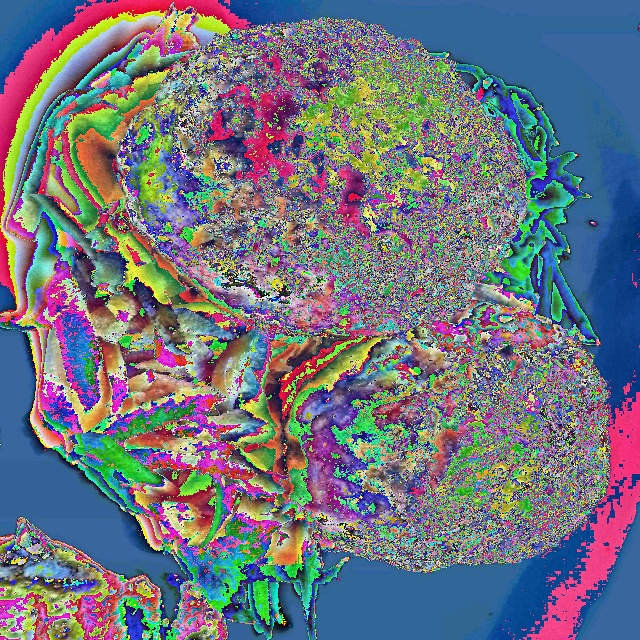background: (0, 2, 612, 639)
